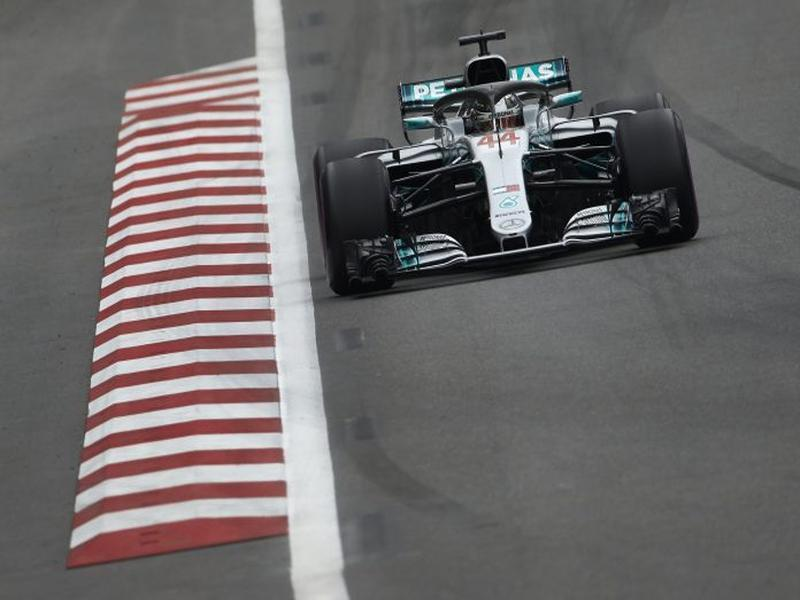f1: (317, 29, 703, 287)
